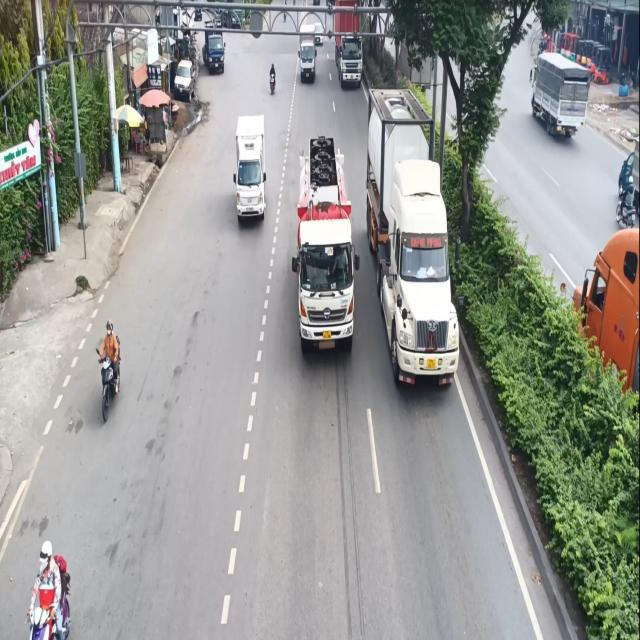motorbike: (28, 529, 72, 640), (97, 320, 125, 411), (266, 60, 276, 100)
truck: (363, 81, 463, 391), (294, 133, 359, 375), (233, 112, 271, 228)
